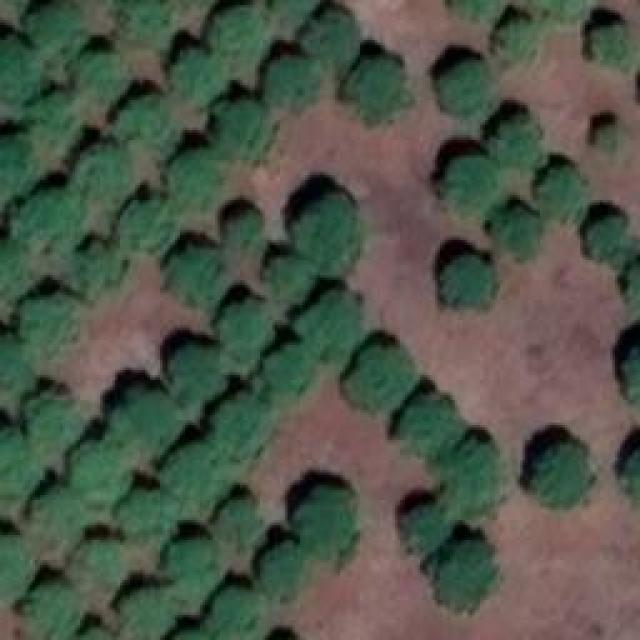Tree: (295, 195, 360, 273), (115, 390, 180, 458), (295, 290, 360, 355), (163, 448, 238, 503), (15, 190, 83, 250), (347, 348, 415, 408), (70, 143, 133, 206), (297, 490, 355, 558), (435, 542, 493, 610), (448, 437, 498, 515), (70, 442, 133, 500), (115, 98, 180, 153), (402, 395, 460, 455), (535, 443, 590, 506), (165, 150, 223, 208), (17, 292, 75, 350), (350, 60, 408, 118), (210, 13, 270, 68), (215, 398, 275, 453), (118, 493, 181, 543), (120, 195, 178, 248), (27, 390, 85, 443), (305, 13, 363, 66), (30, 0, 85, 55), (168, 50, 223, 105), (28, 585, 83, 640), (165, 540, 220, 595), (35, 490, 85, 550), (170, 248, 225, 301), (218, 102, 268, 160), (220, 300, 270, 358), (440, 63, 498, 113), (445, 158, 498, 211), (0, 430, 40, 500), (30, 92, 78, 150), (170, 348, 223, 398), (75, 538, 125, 591), (123, 590, 176, 640), (445, 253, 493, 308), (115, 0, 173, 45), (75, 52, 128, 100), (493, 118, 543, 168), (67, 245, 125, 288), (0, 40, 40, 100), (270, 57, 320, 105), (260, 545, 305, 598), (0, 538, 38, 598), (213, 590, 263, 635), (590, 220, 640, 265), (403, 505, 448, 553), (495, 210, 540, 258), (218, 500, 261, 550), (543, 168, 586, 218), (0, 137, 35, 195), (268, 345, 313, 388), (268, 258, 313, 301), (0, 337, 32, 394), (0, 240, 30, 293), (529, 0, 592, 22), (225, 213, 263, 248), (595, 25, 630, 63), (498, 20, 533, 55), (452, 0, 507, 22), (600, 123, 620, 148)
